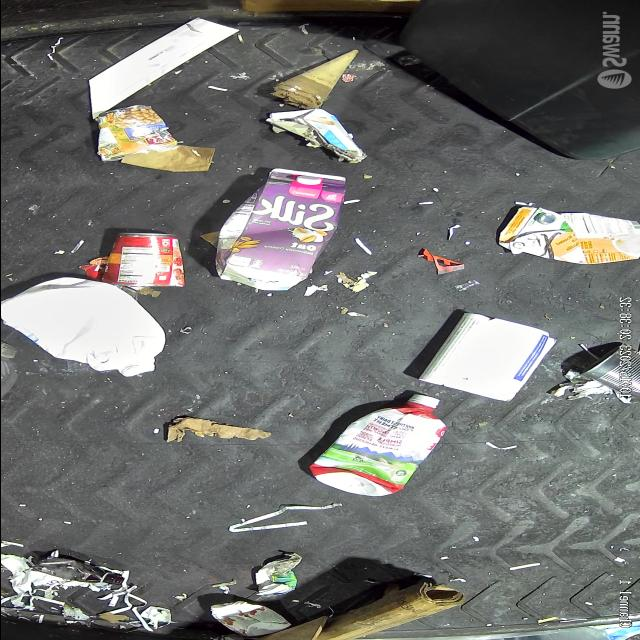can: (95, 225, 197, 291), (582, 338, 640, 403)
milk_jug: (0, 269, 166, 378)
